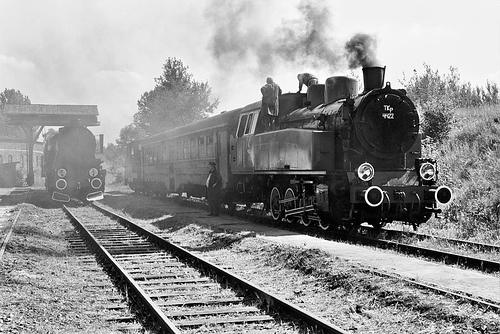train: (123, 59, 456, 244), (40, 124, 112, 208)
